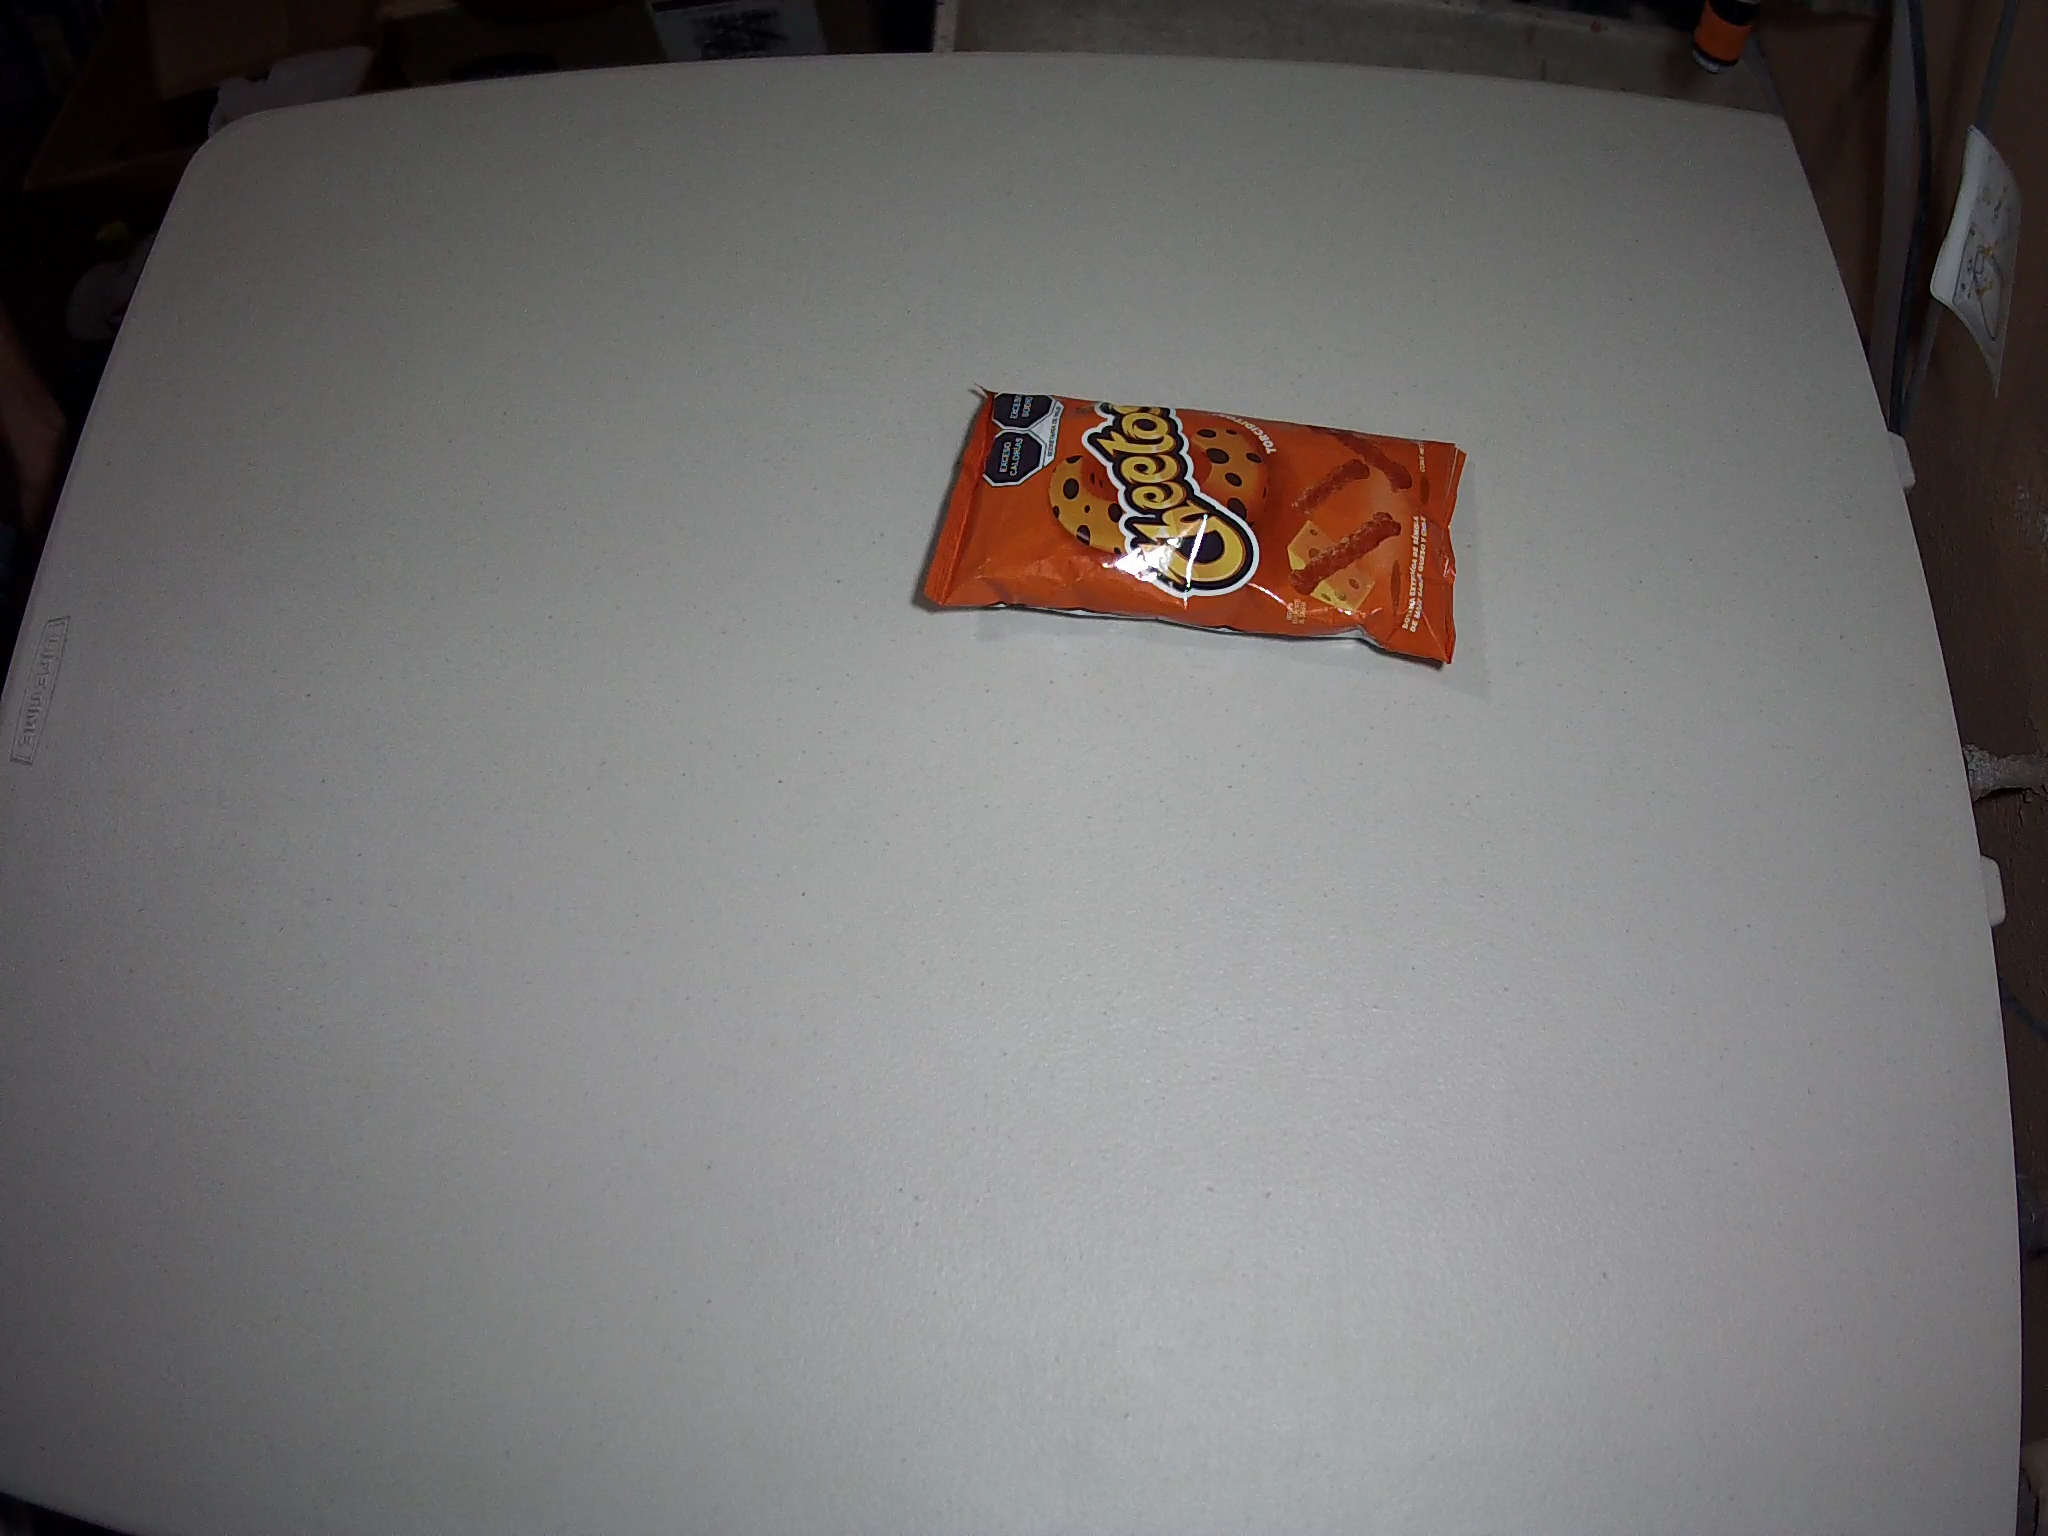CheetosTorciditos_55_F: (918, 381, 1469, 670)
